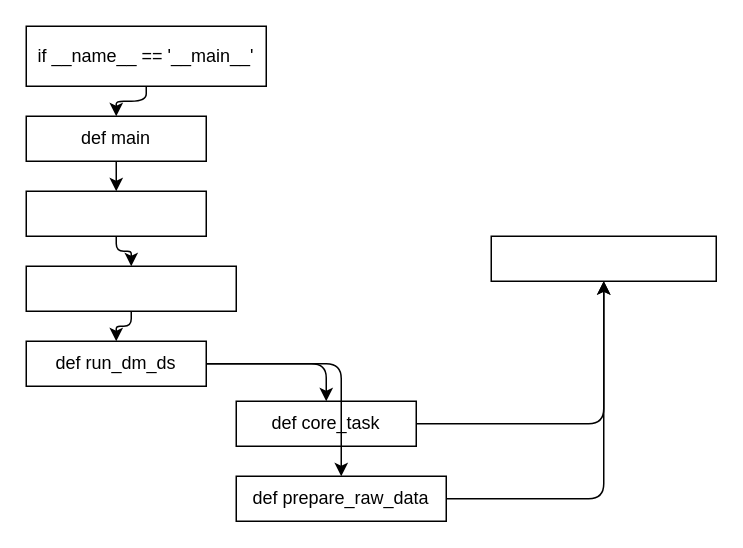
Image size: 743x548. Some labels were removed from this diagram. The shapes that lost their labels are listed below. From the top down, each one's centre as x and y in pixels, then its label:
the point at 115,213: def run_project
the point at 603,258: def get_raw_data_path
the point at 130,288: def run_ds_process
